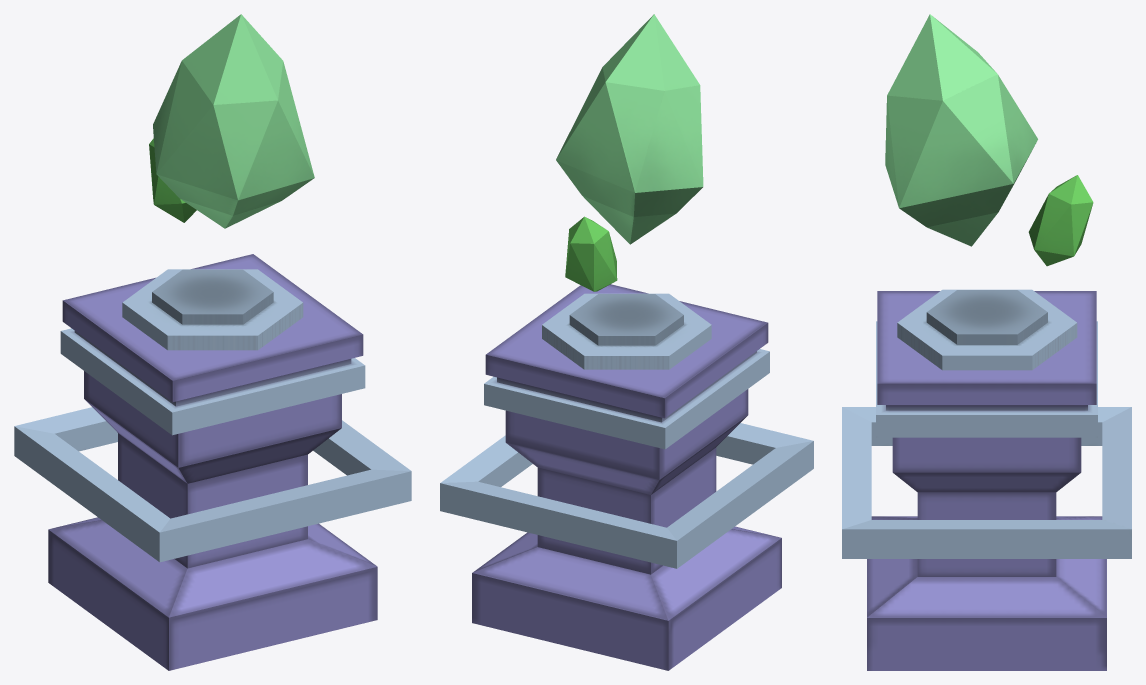
File: Tour arcane2.fbx
The picture shows the model from 3 angles, left to right: view 1: azimuth 30°, elevation 25°; view 2: azimuth 150°, elevation 25°; view 3: azimuth 270°, elevation 25°; orthographic projection. The views are drawn at different scales.
Parts seen in each view (by area): view 1: Tour 2; view 2: Tour 2; view 3: Tour 2.
Part boxes in pixels (box(x1,y1,x2,y2)): Tour 2: box(14, 14, 411, 670); Tour 2: box(440, 14, 813, 670); Tour 2: box(842, 14, 1131, 670).
Size of the model in its own units: 2.61 by 6.02 by 2.61.
